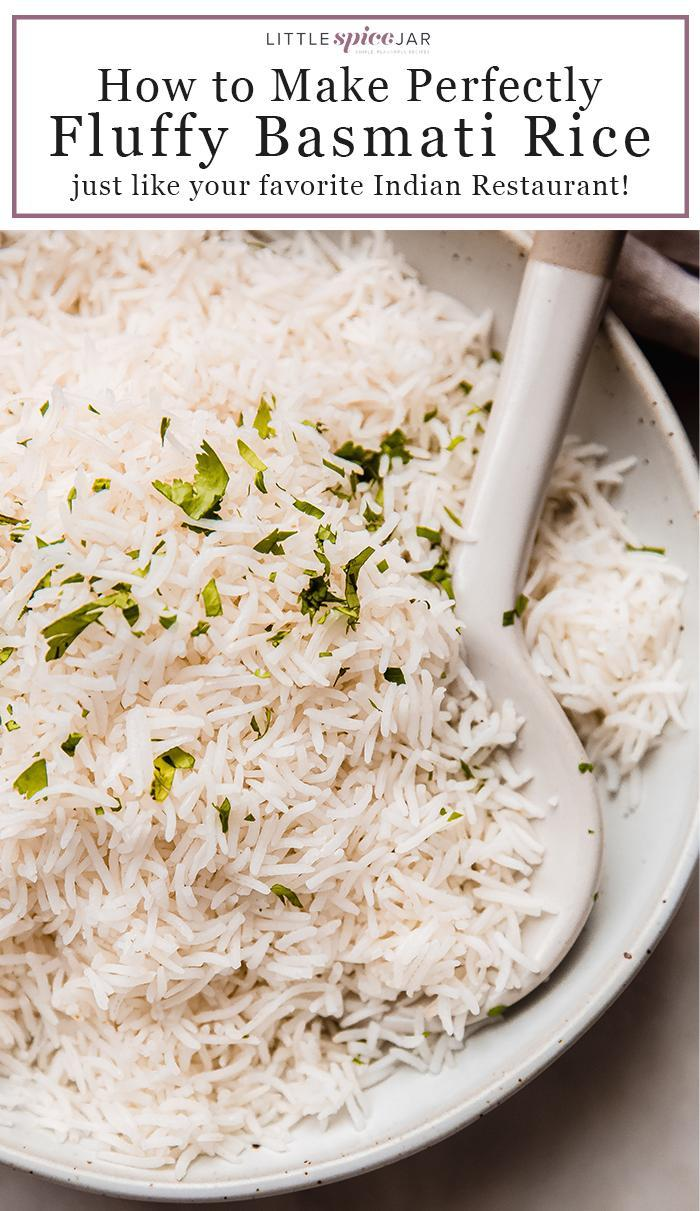rice: (0, 213, 553, 1178), (530, 433, 692, 792)
